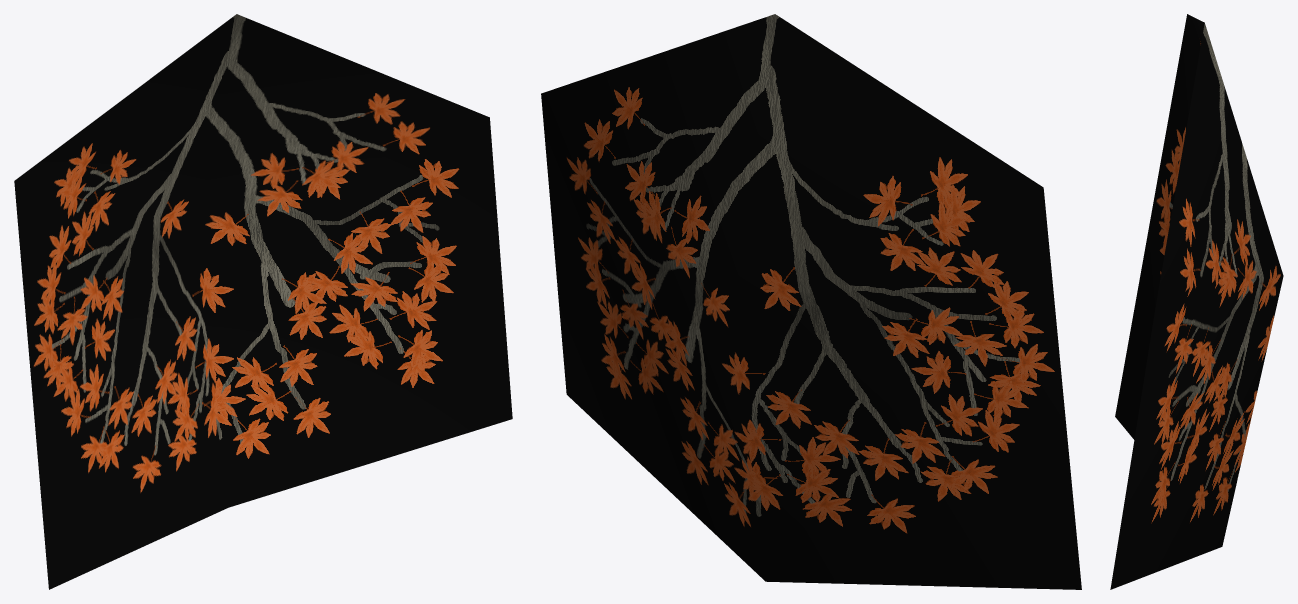
The model's file is LeafMesh22.fbx.
3 renders of one model, left to right at view 1: azimuth 30°, elevation 25°; view 2: azimuth 150°, elevation 25°; view 3: azimuth 270°, elevation 25°, orthographic. The views are drawn at different scales.
Visible parts, largest first — view 1: LeafMesh1; view 2: LeafMesh1; view 3: LeafMesh1.
Boxes of the visible parts, <box> form: LeafMesh1: <box>14,14,512,589</box>; LeafMesh1: <box>541,14,1081,589</box>; LeafMesh1: <box>1110,14,1283,589</box>.
Size of the model in its own units: 2 by 2.07 by 0.6195.
